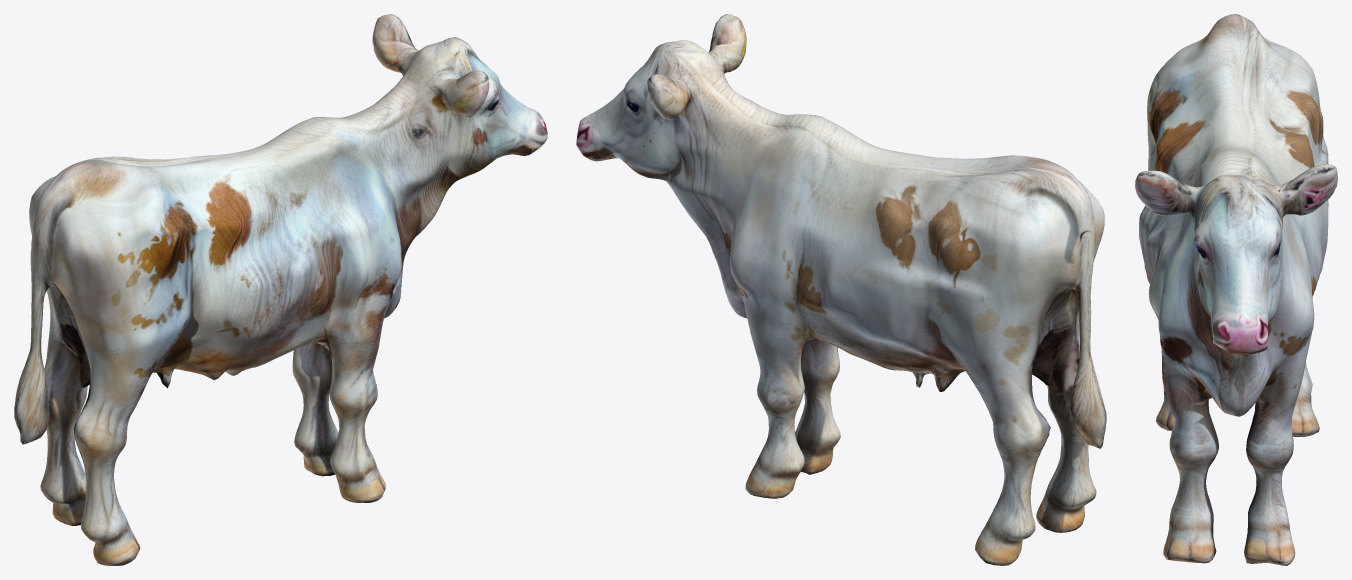
Rendered from cow.fbx.
The picture shows the model from 3 angles, left to right: view 1: azimuth 30°, elevation 25°; view 2: azimuth 150°, elevation 25°; view 3: azimuth 270°, elevation 25°; orthographic projection. The views are drawn at different scales.
Parts seen in each view (by area): view 1: Mesh_0; view 2: Mesh_0; view 3: Mesh_0.
Boxes of the visible parts, bbox=[...] form: Mesh_0: bbox=[14, 14, 547, 565]; Mesh_0: bbox=[576, 14, 1106, 565]; Mesh_0: bbox=[1135, 14, 1337, 565].
Size of the model in its own units: 120 by 90.43 by 37.41.
